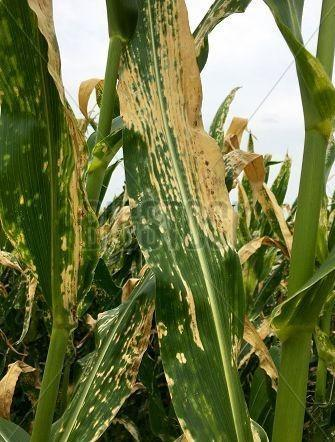Corn_Blight: (108, 3, 289, 281), (21, 3, 98, 329), (111, 302, 220, 442), (234, 314, 286, 403), (4, 346, 52, 425)
